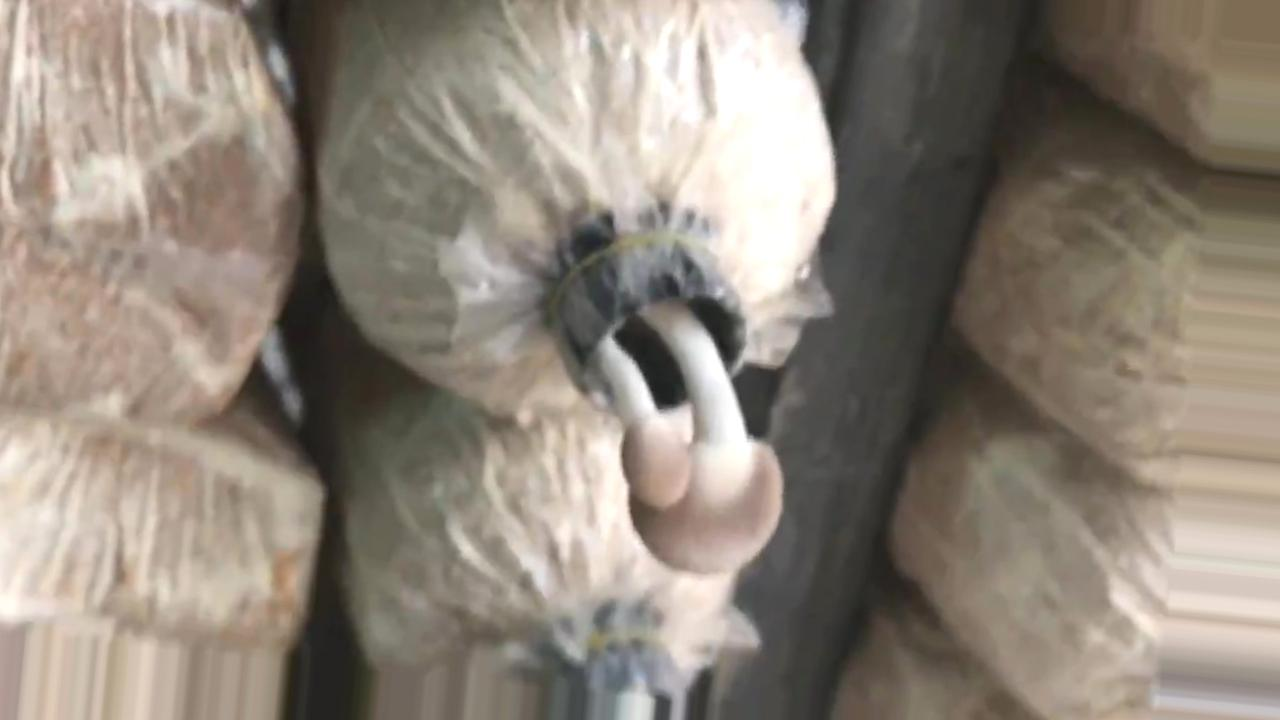nam: (549, 241, 780, 577)
